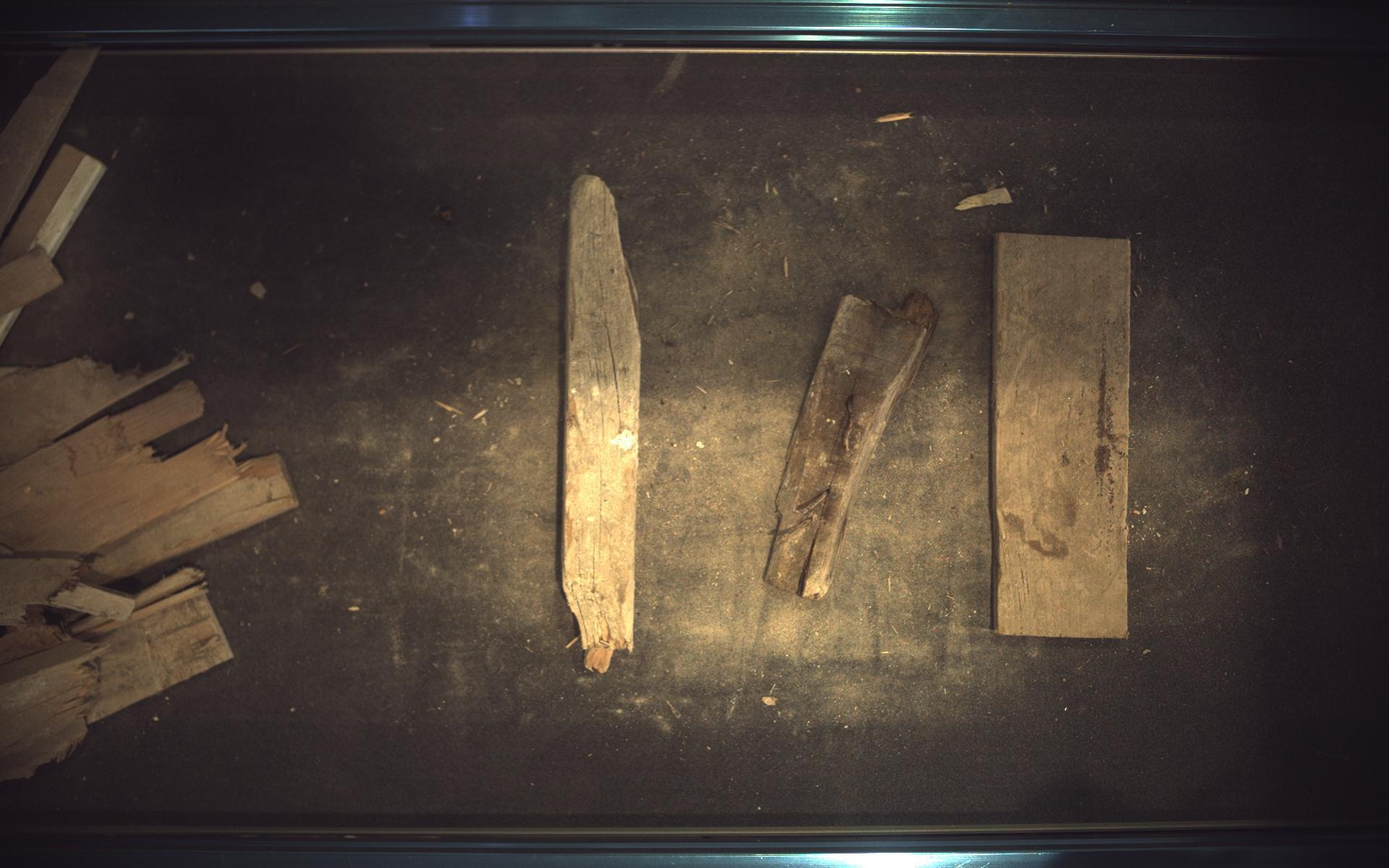wood: (995, 233, 1133, 639), (766, 290, 940, 599), (562, 174, 642, 674)
